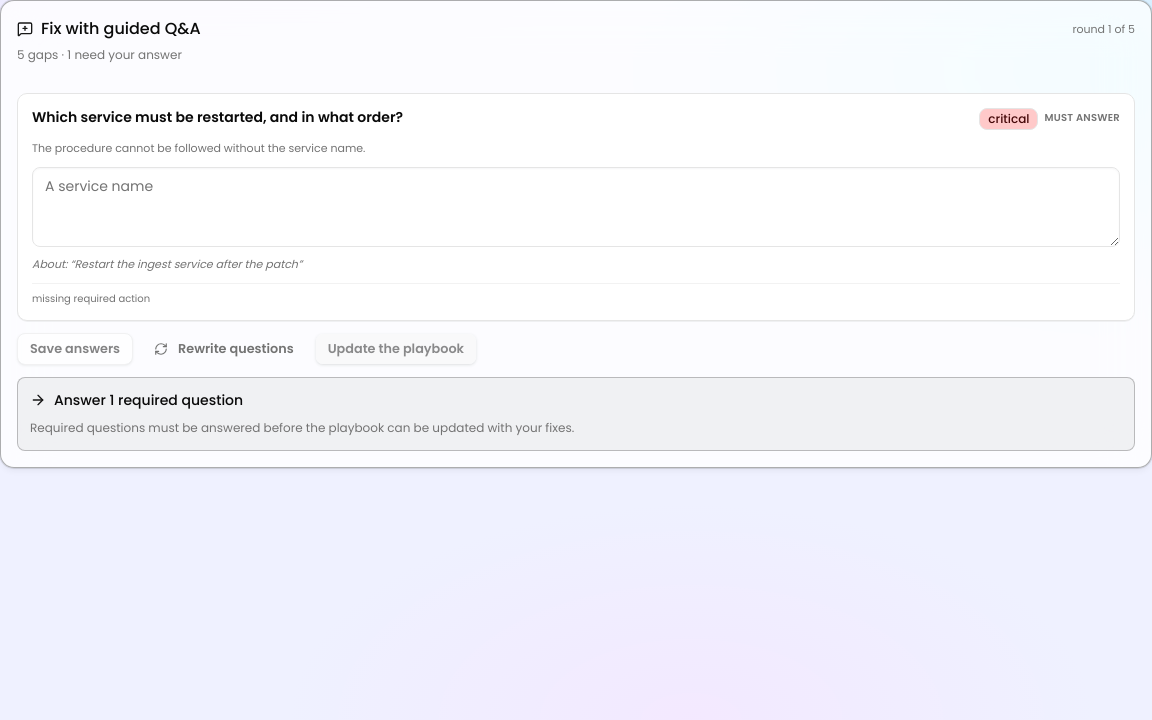
Test case: ClarificationPanel › says how many rewrites are left
Click the button "Rewrite questions".
click(224, 349)  # box [141,333,307,365]
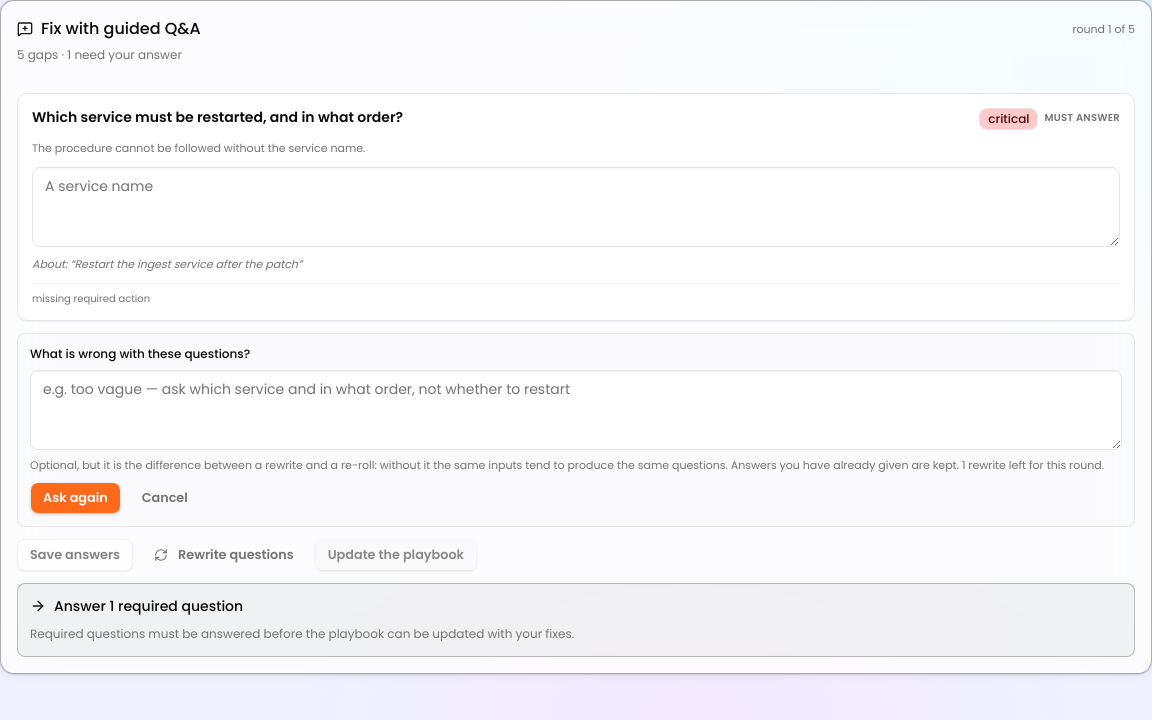
Expected: the text "1 rewrite left for this round" is shown, [30,458,1122,474]
